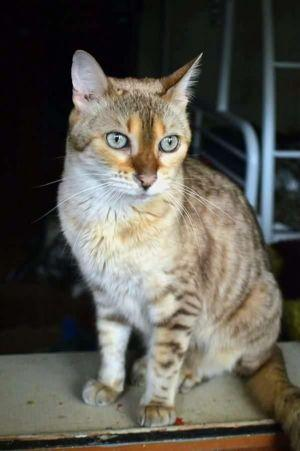bengal: (61, 40, 213, 211)
